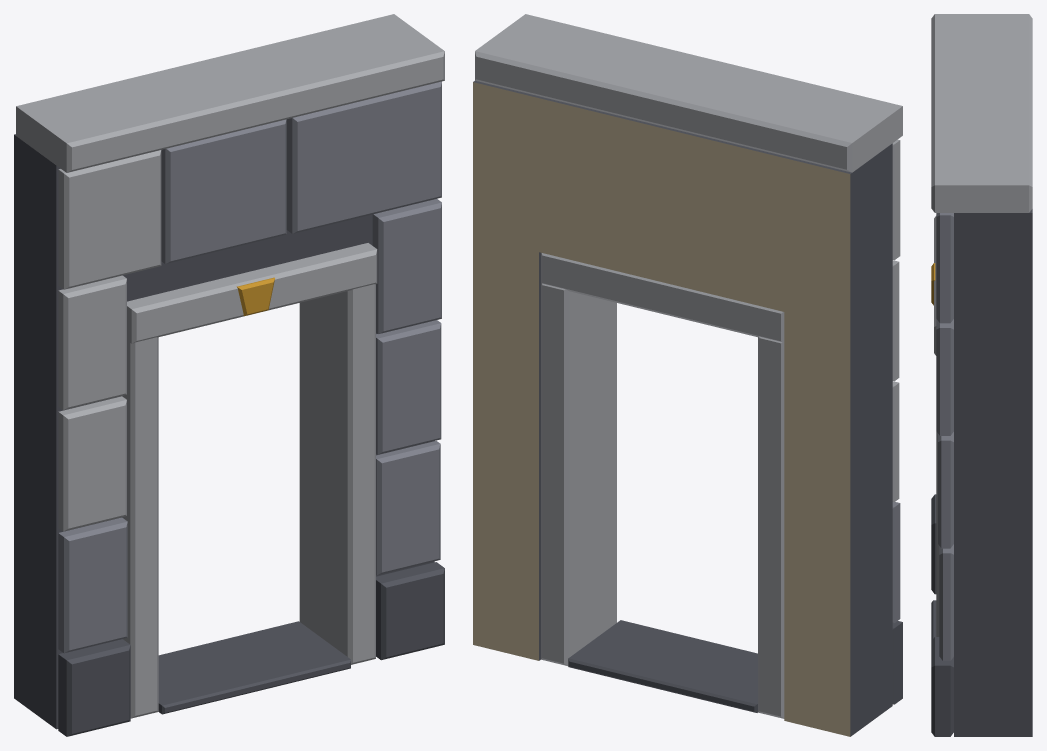
File: WallDoor_10.glb
3 views of the same model, side by side, from view 1: azimuth 30°, elevation 25°; view 2: azimuth 150°, elevation 25°; view 3: azimuth 270°, elevation 25° (orthographic). The views are drawn at different scales.
Parts seen in each view (by area): view 1: WallDoor_10; view 2: WallDoor_10; view 3: WallDoor_10.
Part boxes in pixels (x1,y1,x2,y2): WallDoor_10: (14, 14, 444, 736); WallDoor_10: (473, 14, 902, 736); WallDoor_10: (931, 14, 1032, 736).
Bounding box in the file's own units: 8 × 12 × 2.
